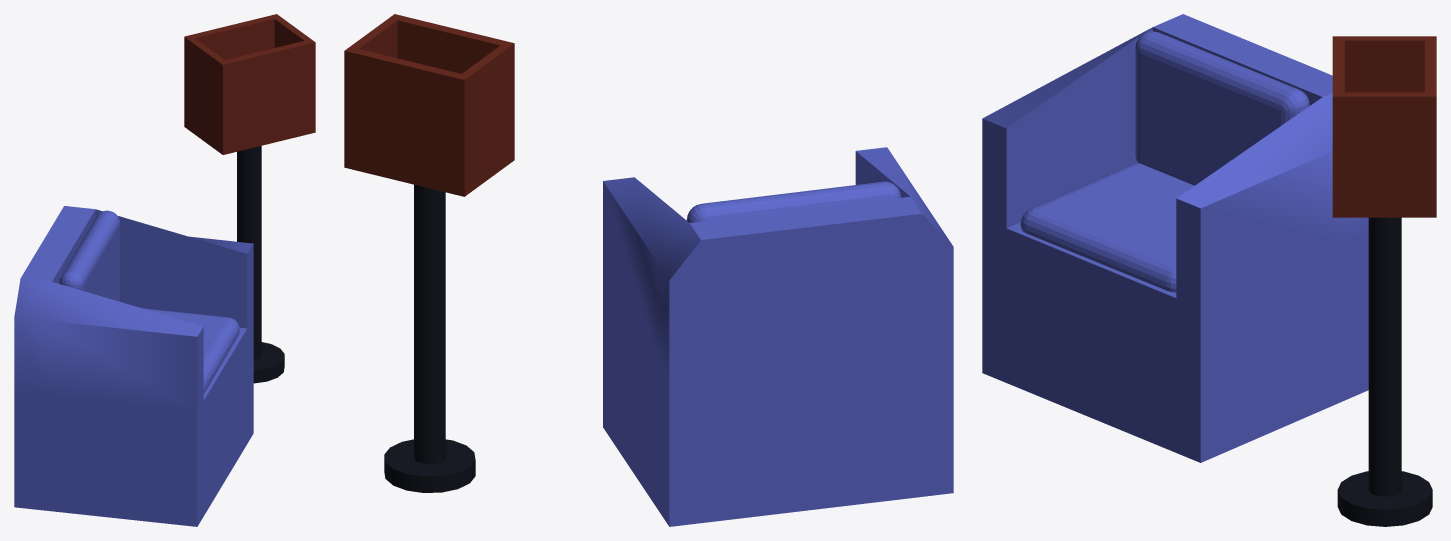
Rendered from final_chair_biglamp.fbx.
3 renders of one model, left to right at view 1: azimuth 30°, elevation 25°; view 2: azimuth 150°, elevation 25°; view 3: azimuth 270°, elevation 25°, orthographic. The views are drawn at different scales.
Visible parts, largest first — view 1: sofa_small_1, Cube, cuchion_2, Cylinder_1, cuchion, Cylinder; view 2: sofa_small_1, Cube, Cylinder_1, cuchion_2, Cylinder; view 3: sofa_small_1, Cube, cuchion_2, cuchion, Cylinder_1, Cylinder.
Boxes of the visible parts, x1=… form: sofa_small_1: x1=14, y1=206, x2=253, y2=526; Cube: x1=184, y1=14, x2=315, y2=154; cuchion_2: x1=59, y1=210, x2=119, y2=301; Cylinder_1: x1=237, y1=146, x2=261, y2=360; cuchion: x1=143, y1=308, x2=239, y2=393; Cylinder: x1=253, y1=342, x2=284, y2=383; sofa_small_1: x1=603, y1=147, x2=953, y2=526; Cube: x1=344, y1=14, x2=514, y2=196; Cylinder_1: x1=414, y1=184, x2=445, y2=463; cuchion_2: x1=686, y1=181, x2=901, y2=222; Cylinder: x1=384, y1=439, x2=475, y2=492; sofa_small_1: x1=982, y1=14, x2=1368, y2=462; Cube: x1=1332, y1=36, x2=1436, y2=217; cuchion_2: x1=1135, y1=31, x2=1309, y2=185; cuchion: x1=1020, y1=162, x2=1194, y2=292; Cylinder_1: x1=1368, y1=217, x2=1401, y2=496; Cylinder: x1=1337, y1=471, x2=1432, y2=526.
Bounding box in the file's own units: 133 × 115 × 107.
